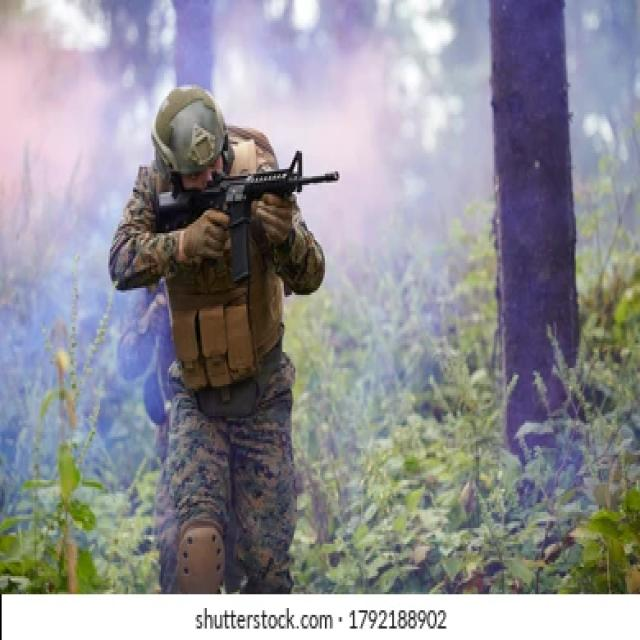soldier: (111, 76, 342, 597)
